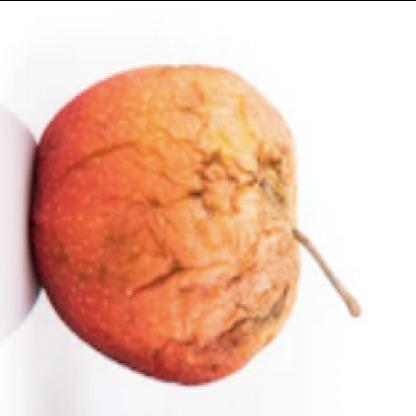Rotten Apple: (32, 63, 300, 385)
